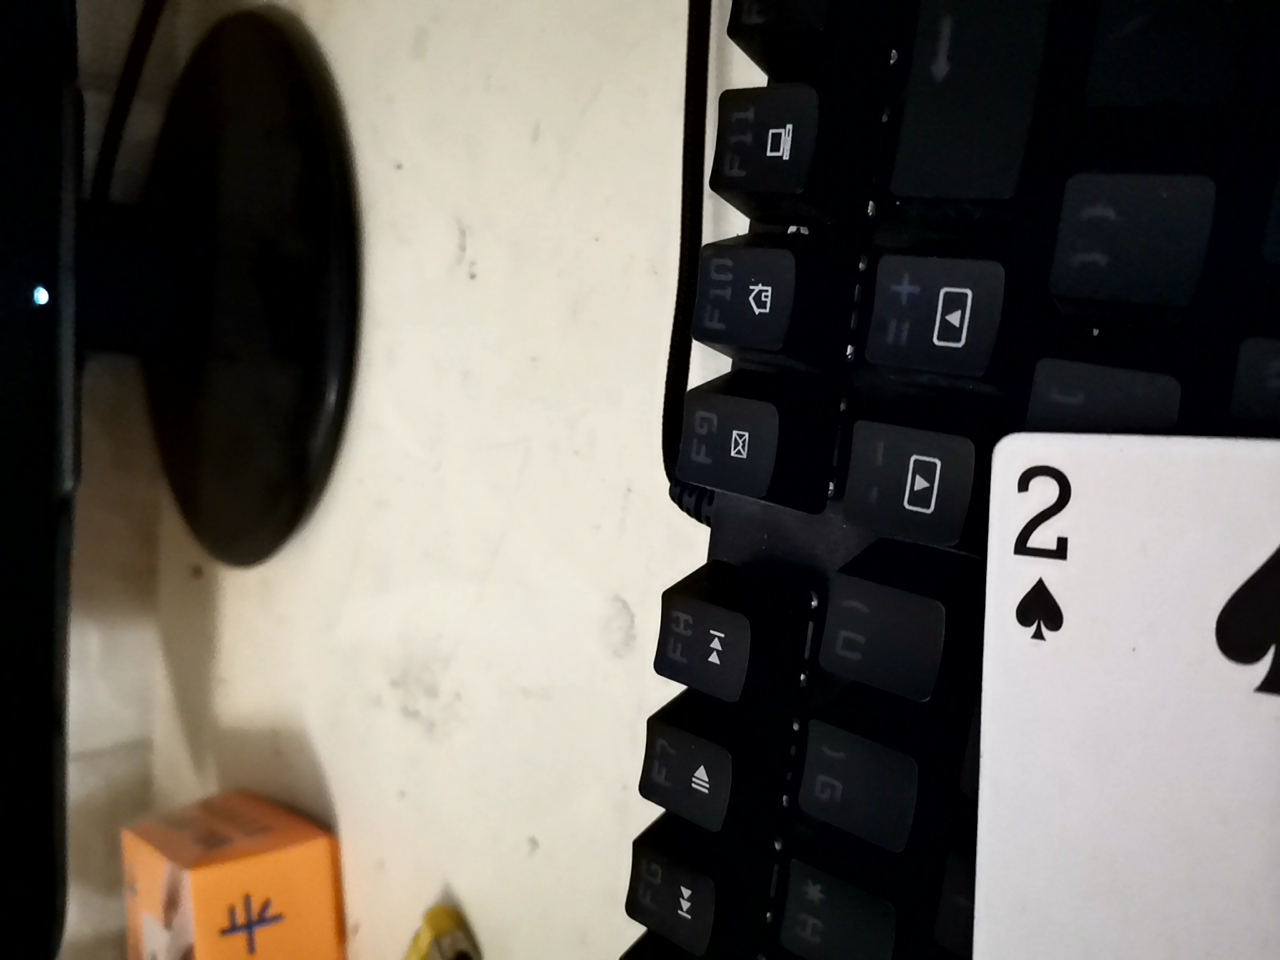ht 2: (929, 400, 1279, 960)
